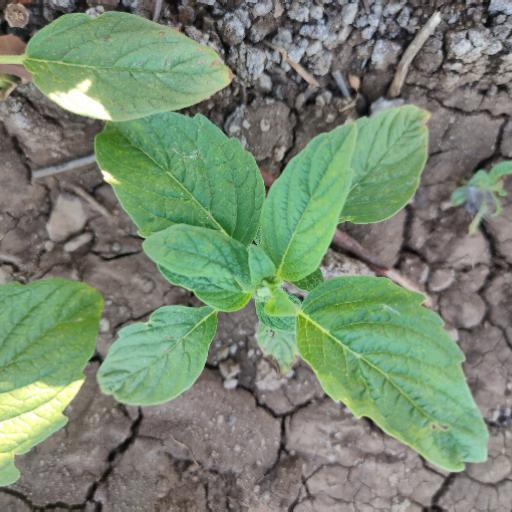crop: (85, 88, 492, 484)
